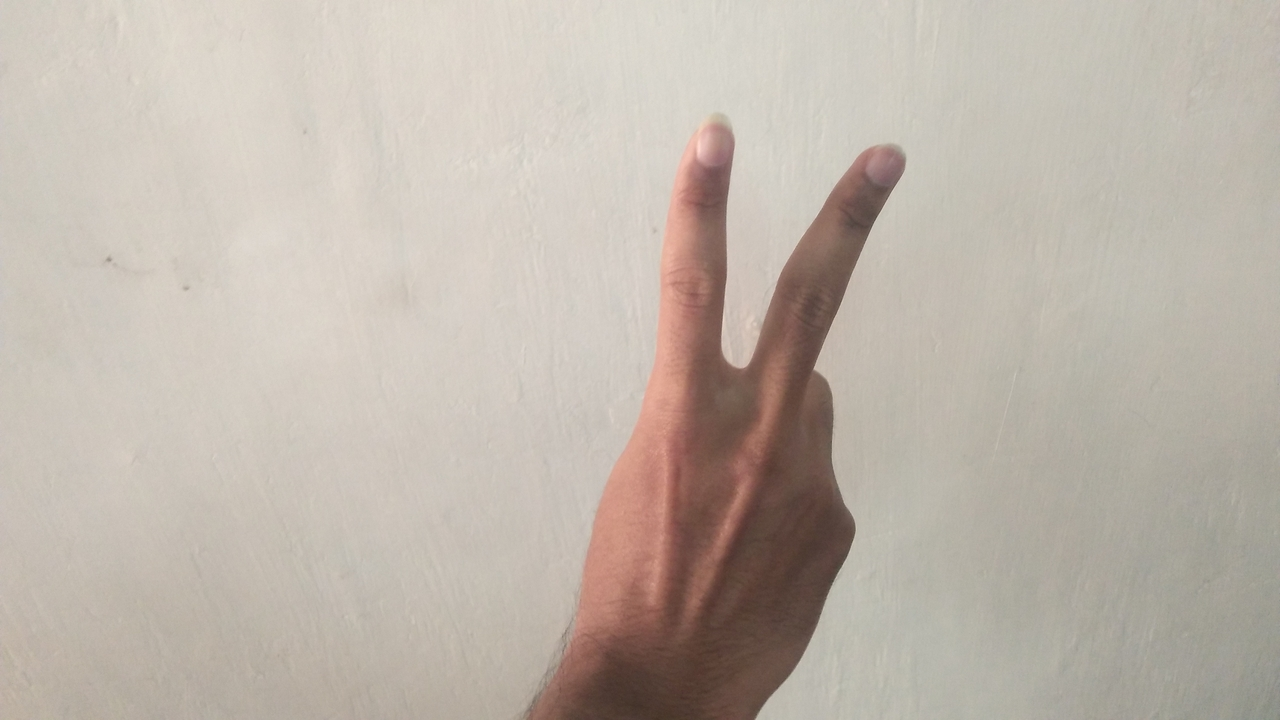fingertip: (846, 138, 916, 196), (678, 114, 740, 176)
